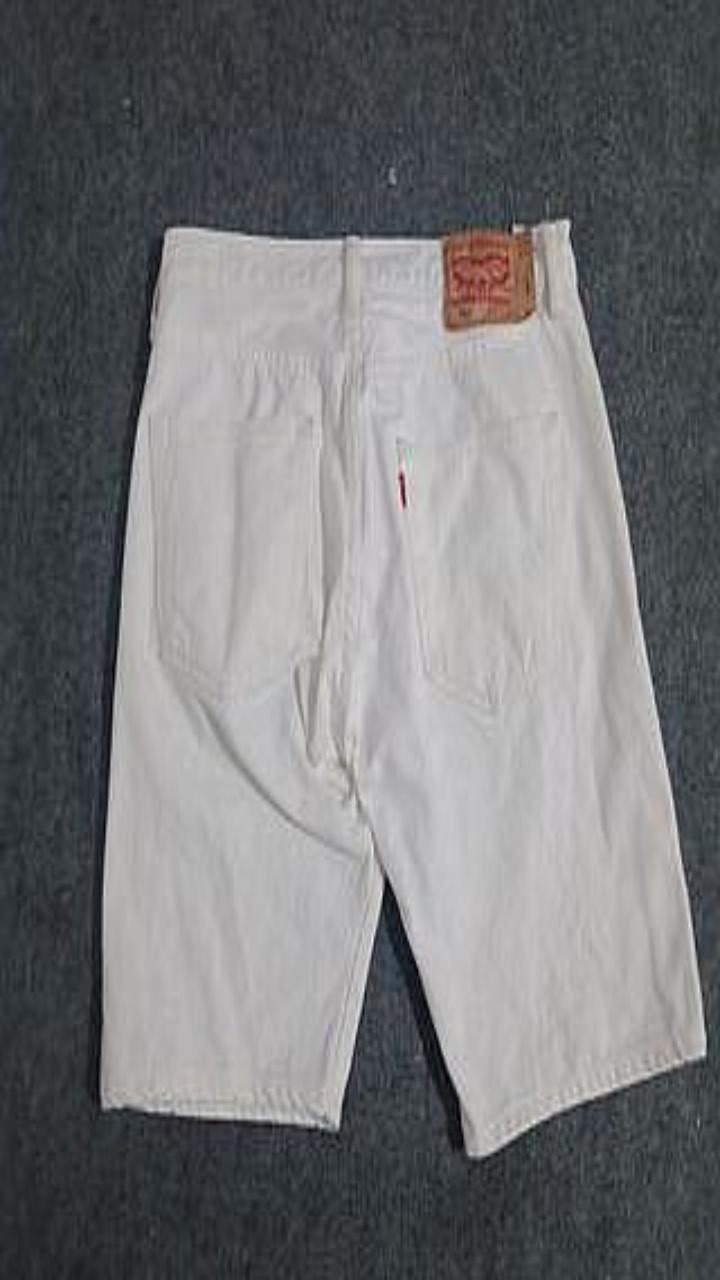Shorts: (101, 220, 705, 1155)
